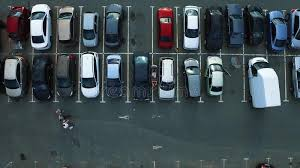car: (2, 56, 28, 100), (29, 5, 53, 50), (103, 4, 126, 48), (32, 54, 53, 102), (132, 52, 152, 101), (80, 52, 100, 100), (56, 6, 79, 44), (57, 55, 76, 100), (204, 9, 223, 50), (106, 56, 123, 100), (5, 7, 27, 41), (184, 59, 202, 100), (206, 56, 223, 99), (248, 6, 266, 46), (157, 8, 174, 50), (269, 10, 286, 51), (184, 6, 200, 49), (228, 5, 244, 48), (159, 58, 174, 102), (82, 11, 99, 49), (289, 8, 300, 50), (293, 57, 300, 100)
